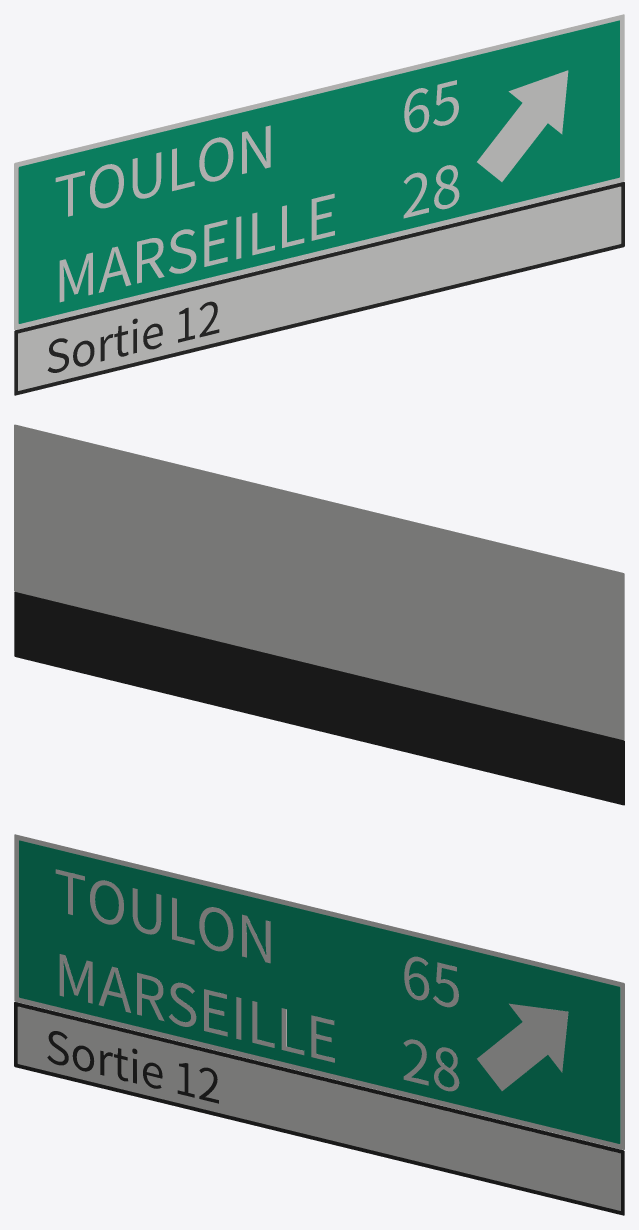
3 views of the same model, one above another, from view 1: azimuth 30°, elevation 25°; view 2: azimuth 150°, elevation 25°; view 3: azimuth 330°, elevation 25° (orthographic).
Parts seen in each view (by area): view 1: D31d_reg01, D31d_reg08, D31d_lis00, D31d_lis07, D31d_fl02, D31d_txt05, D31d_txt03, D31d_txt09, D31d_txt04, D31d_txt06; view 2: D31d_lis00, D31d_lis07; view 3: D31d_reg01, D31d_reg08, D31d_lis00, D31d_lis07, D31d_fl02, D31d_txt05, D31d_txt03, D31d_txt09, D31d_txt04, D31d_txt06.
Boxes of the visible parts, x1=… form: D31d_reg01: x1=18, y1=20, x2=619, y2=323; D31d_reg08: x1=18, y1=186, x2=621, y2=390; D31d_lis00: x1=14, y1=14, x2=624, y2=329; D31d_lis07: x1=14, y1=182, x2=624, y2=395; D31d_fl02: x1=477, y1=70, x2=568, y2=181; D31d_txt05: x1=59, y1=193, x2=334, y2=302; D31d_txt03: x1=55, y1=125, x2=270, y2=216; D31d_txt09: x1=47, y1=301, x2=219, y2=372; D31d_txt04: x1=404, y1=80, x2=458, y2=132; D31d_txt06: x1=403, y1=165, x2=459, y2=218; D31d_lis00: x1=14, y1=424, x2=624, y2=740; D31d_lis07: x1=14, y1=592, x2=624, y2=805; D31d_reg01: x1=19, y1=840, x2=620, y2=1143; D31d_reg08: x1=17, y1=1006, x2=620, y2=1210; D31d_lis00: x1=14, y1=834, x2=624, y2=1149; D31d_lis07: x1=14, y1=1002, x2=624, y2=1215; D31d_fl02: x1=477, y1=1003, x2=568, y2=1090; D31d_txt05: x1=59, y1=954, x2=334, y2=1062; D31d_txt03: x1=55, y1=869, x2=270, y2=963; D31d_txt09: x1=47, y1=1031, x2=218, y2=1103; D31d_txt04: x1=404, y1=956, x2=458, y2=1007; D31d_txt06: x1=403, y1=1039, x2=459, y2=1091.
Bounding box in the file's own units: 4.89 × 1.78 × 0.004.
